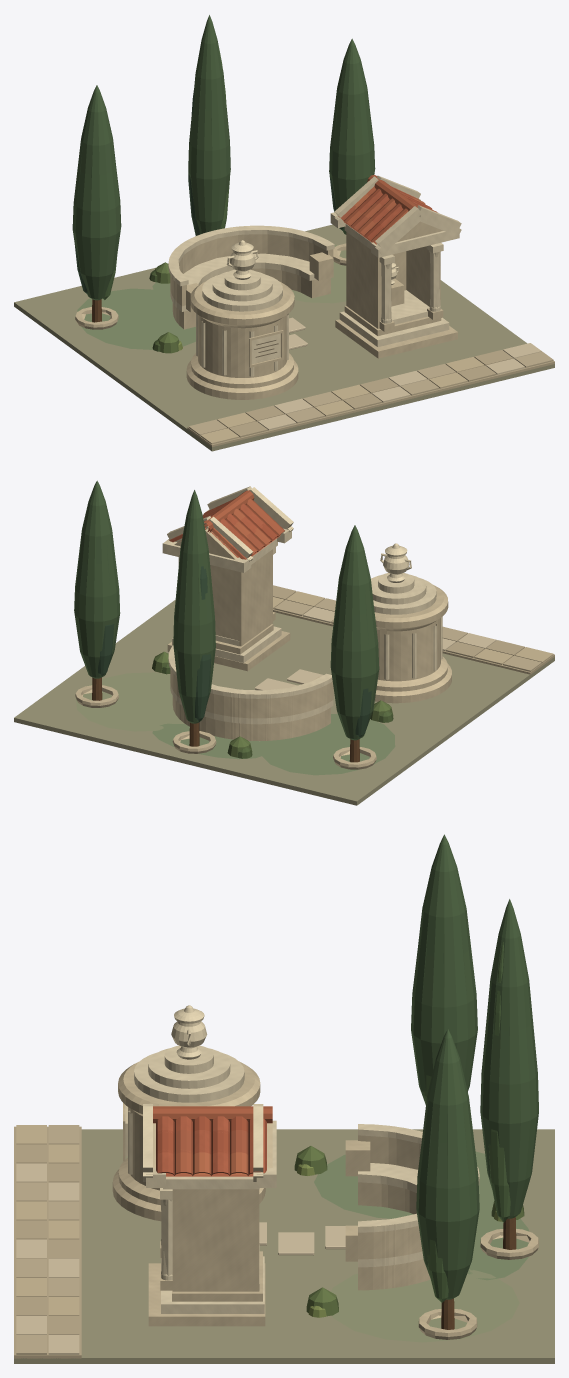
The model's file is verona_tombs_garden.glb.
The picture shows the model from 3 angles, top to bottom: view 1: azimuth 30°, elevation 25°; view 2: azimuth 150°, elevation 25°; view 3: azimuth 270°, elevation 25°; orthographic projection. The views are drawn at different scales.
Visible parts, largest first — view 1: Garden_earth.003, Cypress_middle.001, Travertine.001, Limestone_trim.001, Garden_earth.001, Limestone_trim.003, Travertine.003, Quiet_turf.001, Cypress_middle.003, Travertine.004, Limestone_trim.004, Paving_1.001 (+9 smaller); view 2: Garden_earth.001, Cypress_middle.001, Travertine.001, Garden_earth.003, Limestone_trim.001, Quiet_turf.001, Travertine.003, Dry_turf.001, Cypress_middle.003, Limestone_trim.003, Cypress_deep.001, Paving_2.001 (+12 smaller); view 3: Garden_earth.003, Cypress_middle.001, Travertine.001, Travertine.003, Limestone_trim.001, Dry_turf.004, Cypress_middle.003, Limestone_trim.003, Paving_1.001, Quiet_turf.001, Paving_2.001, Garden_earth.001 (+15 smaller).
Boxes of the visible parts, x1,y1,x2,y2 form: Garden_earth.003: (14, 224, 554, 451); Cypress_middle.001: (72, 15, 375, 300); Travertine.001: (75, 221, 456, 399); Limestone_trim.001: (168, 175, 461, 376); Garden_earth.001: (14, 225, 492, 450); Limestone_trim.003: (168, 212, 459, 363); Travertine.003: (77, 232, 457, 367); Quiet_turf.001: (77, 282, 195, 349); Cypress_middle.003: (73, 77, 373, 299); Travertine.004: (82, 234, 340, 319); Limestone_trim.004: (169, 226, 440, 331); Paving_1.001: (187, 350, 513, 446); Garden_earth.001: (14, 600, 554, 804); Cypress_middle.001: (74, 480, 379, 740); Travertine.001: (75, 528, 451, 769); Garden_earth.003: (14, 600, 554, 805); Limestone_trim.001: (163, 486, 442, 724); Quiet_turf.001: (152, 713, 395, 775); Travertine.003: (80, 549, 443, 764); Dry_turf.001: (75, 672, 184, 731); Cypress_middle.003: (75, 530, 375, 678); Limestone_trim.003: (162, 510, 434, 724); Cypress_deep.001: (98, 566, 371, 737); Paving_2.001: (255, 607, 496, 690); Garden_earth.003: (14, 1129, 554, 1363); Cypress_middle.001: (411, 834, 538, 1299); Travertine.001: (112, 1061, 538, 1339); Travertine.003: (123, 1064, 537, 1332); Limestone_trim.001: (125, 1005, 479, 1312); Dry_turf.004: (331, 1273, 519, 1341); Cypress_middle.003: (414, 912, 537, 1299); Limestone_trim.003: (125, 1034, 479, 1313); Paving_1.001: (14, 1127, 80, 1357); Quiet_turf.001: (314, 1151, 529, 1280); Paving_2.001: (16, 1163, 345, 1354); Garden_earth.001: (15, 1130, 553, 1362).
Size of the model in its own units: 9.2 by 6.68 by 9.2.
23 materials, 4 textured.
